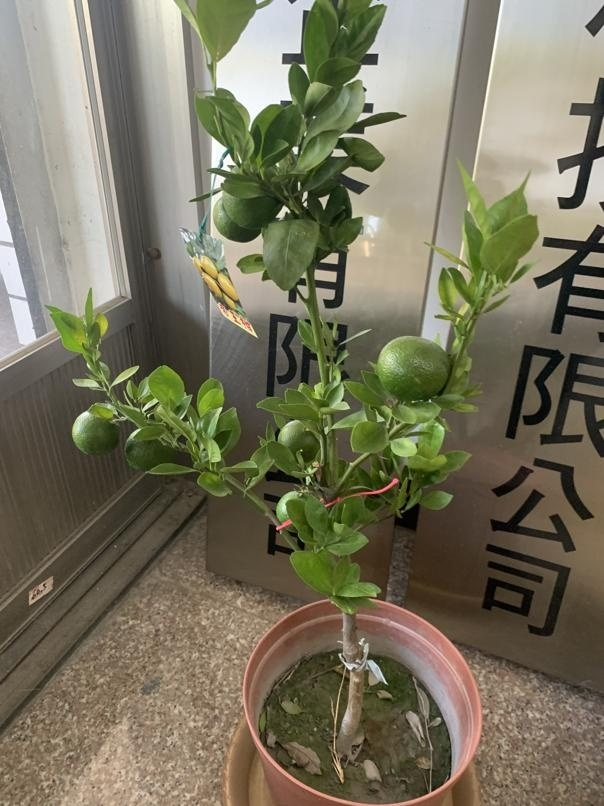Tangerine: (374, 335, 453, 402), (71, 407, 121, 459)
